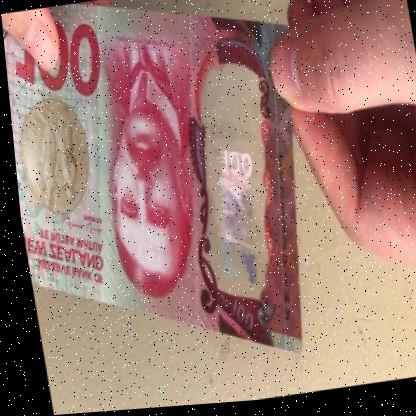100F: (186, 67, 285, 295)
